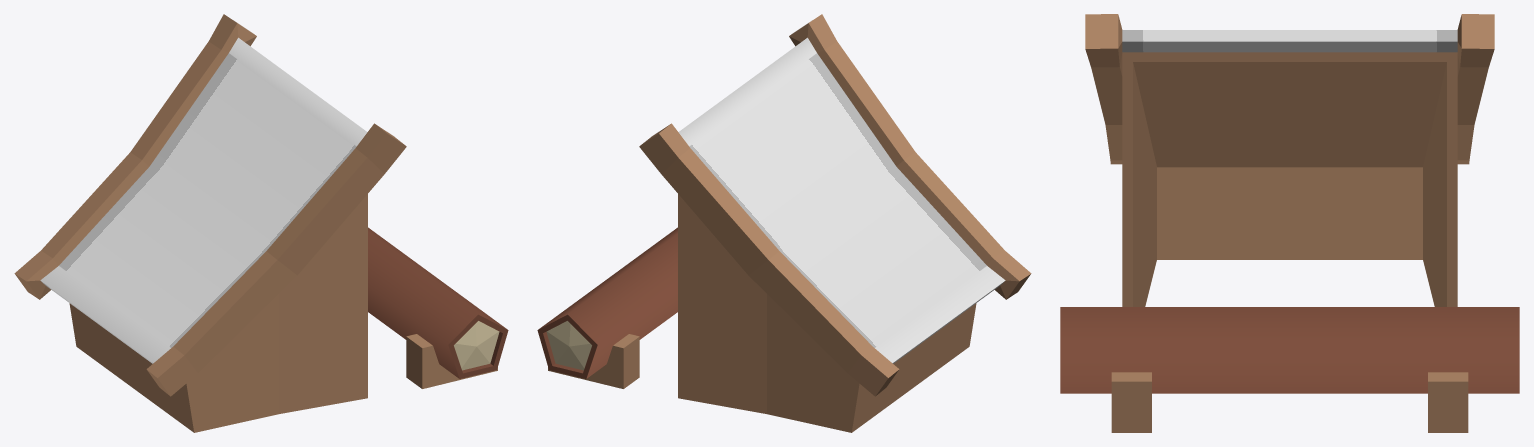
File: Woodcutter.fbx
The picture shows the model from 3 angles, left to right: view 1: azimuth 30°, elevation 25°; view 2: azimuth 150°, elevation 25°; view 3: azimuth 270°, elevation 25°; orthographic projection. The views are drawn at different scales.
Parts seen in each view (by area): view 1: Woodcutter; view 2: Woodcutter; view 3: Woodcutter.
Part boxes in pixels (x1,y1,x2,y2): Woodcutter: (14,14,508,432); Woodcutter: (537,14,1031,432); Woodcutter: (1060,14,1519,432).
Size of the model in its own units: 73.66 by 68.52 by 56.78.
